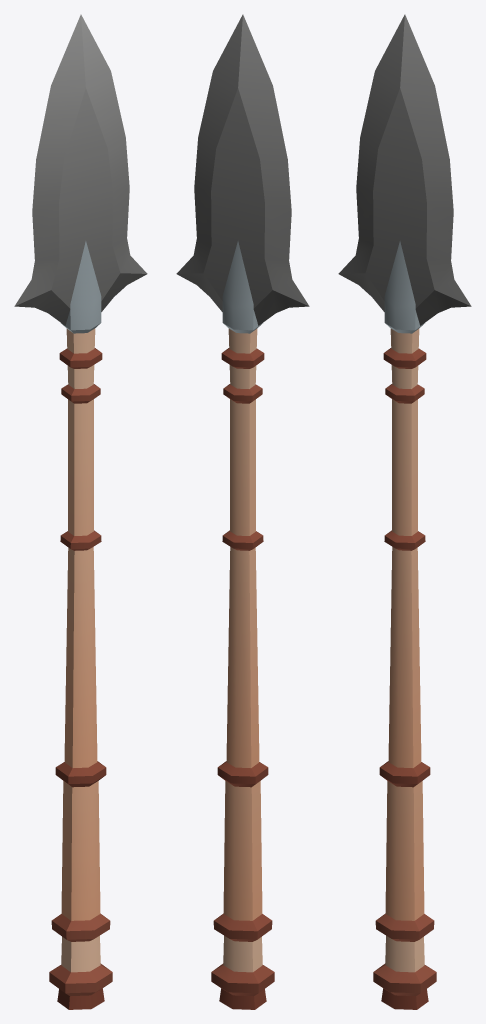
The model's file is Spear.fbx.
3 views of the same model, side by side, from view 1: azimuth 30°, elevation 25°; view 2: azimuth 150°, elevation 25°; view 3: azimuth 330°, elevation 25° (orthographic).
Parts seen in each view (by area): view 1: Spear; view 2: Spear; view 3: Spear.
Boxes of the visible parts, x1,y1,x2,y2 form: Spear: [14, 14, 147, 1009]; Spear: [176, 14, 309, 1009]; Spear: [338, 14, 471, 1009].
Bounding box in the file's own units: 0.3539 × 0.1349 × 2.52.
Materials: 1 (1 with a texture image).
